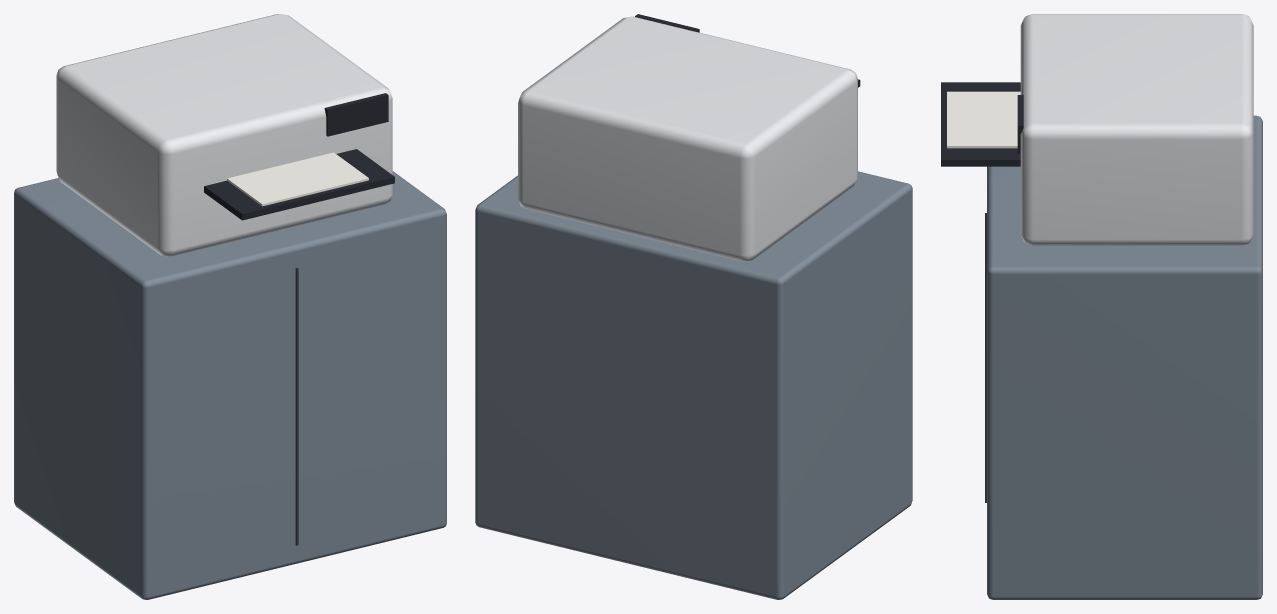
Rendered from PrinterSmall.fbx.
3 views of the same model, side by side, from view 1: azimuth 30°, elevation 25°; view 2: azimuth 150°, elevation 25°; view 3: azimuth 270°, elevation 25° (orthographic). The views are drawn at different scales.
Parts seen in each view (by area): view 1: PrinterSmallBody; view 2: PrinterSmallBody; view 3: PrinterSmallBody.
Part boxes in pixels (x1,y1,x2,y2): PrinterSmallBody: (14,14,446,599); PrinterSmallBody: (475,14,912,599); PrinterSmallBody: (941,14,1262,599).
Bounding box in the file's own units: 0.6 × 0.82 × 0.525.
